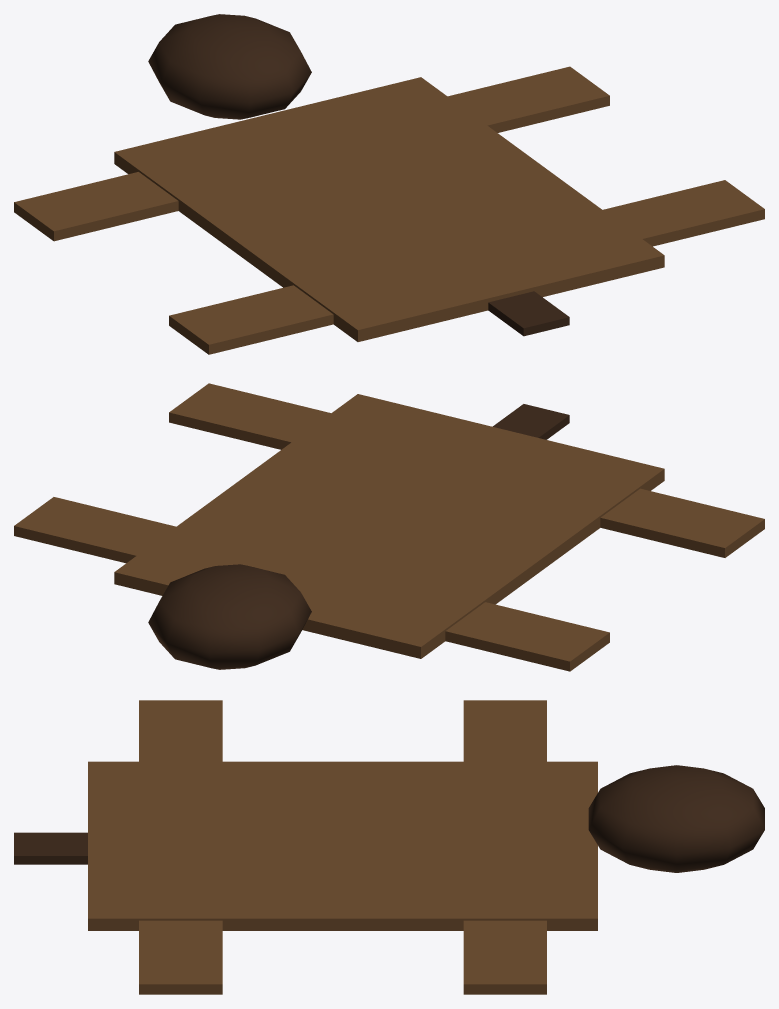
File: rug_bear.glb
3 renders of one model, top to bottom at view 1: azimuth 30°, elevation 25°; view 2: azimuth 150°, elevation 25°; view 3: azimuth 270°, elevation 25°, orthographic. The views are drawn at different scales.
Parts seen in each view (by area): view 1: rug_bear; view 2: rug_bear; view 3: rug_bear.
Boxes of the visible parts, x1,y1,x2,y2 form: rug_bear: (14, 14, 764, 354); rug_bear: (14, 383, 764, 671); rug_bear: (14, 700, 764, 994).
Size of the model in its own units: 1.45 by 0.2 by 1.62.
